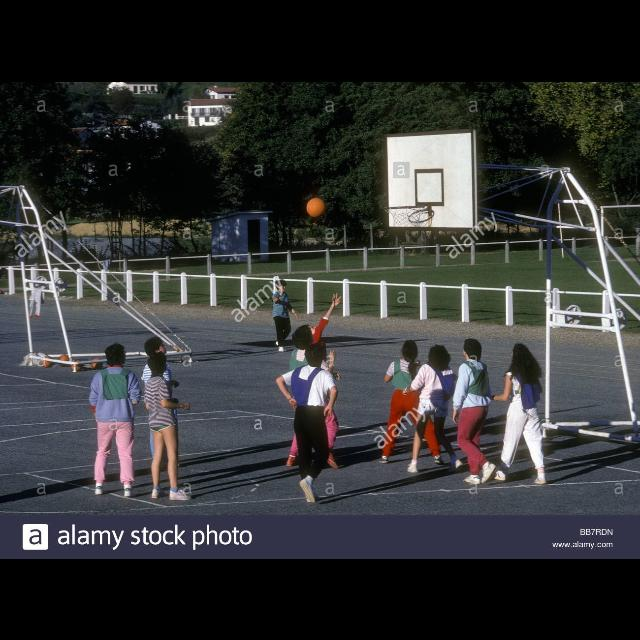head: (294, 323, 318, 349), (106, 343, 128, 365), (144, 336, 168, 356), (305, 342, 325, 363), (148, 352, 168, 372), (463, 338, 482, 358), (402, 339, 418, 361), (431, 346, 447, 364), (511, 344, 527, 361), (278, 281, 286, 291)
person: (274, 342, 340, 504), (285, 291, 343, 469), (87, 342, 143, 498), (378, 338, 446, 466), (489, 342, 548, 486), (402, 342, 464, 474), (140, 351, 192, 502), (452, 337, 498, 485), (140, 334, 182, 472), (271, 278, 301, 352)
